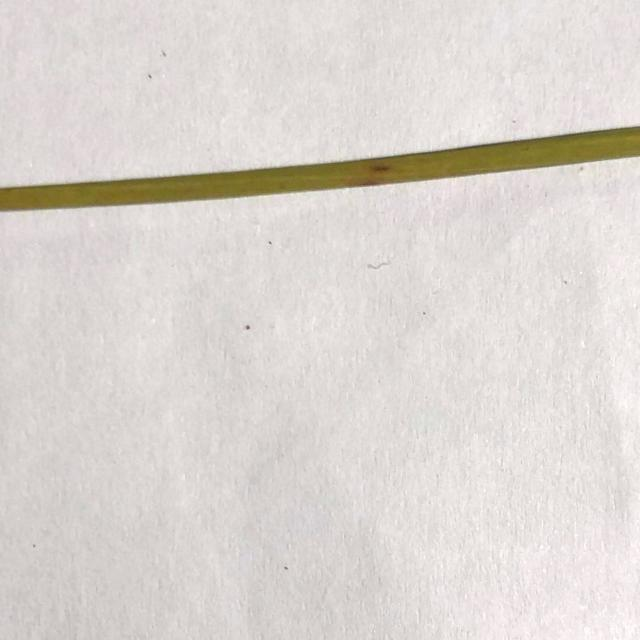brownspots: (344, 160, 405, 190)
